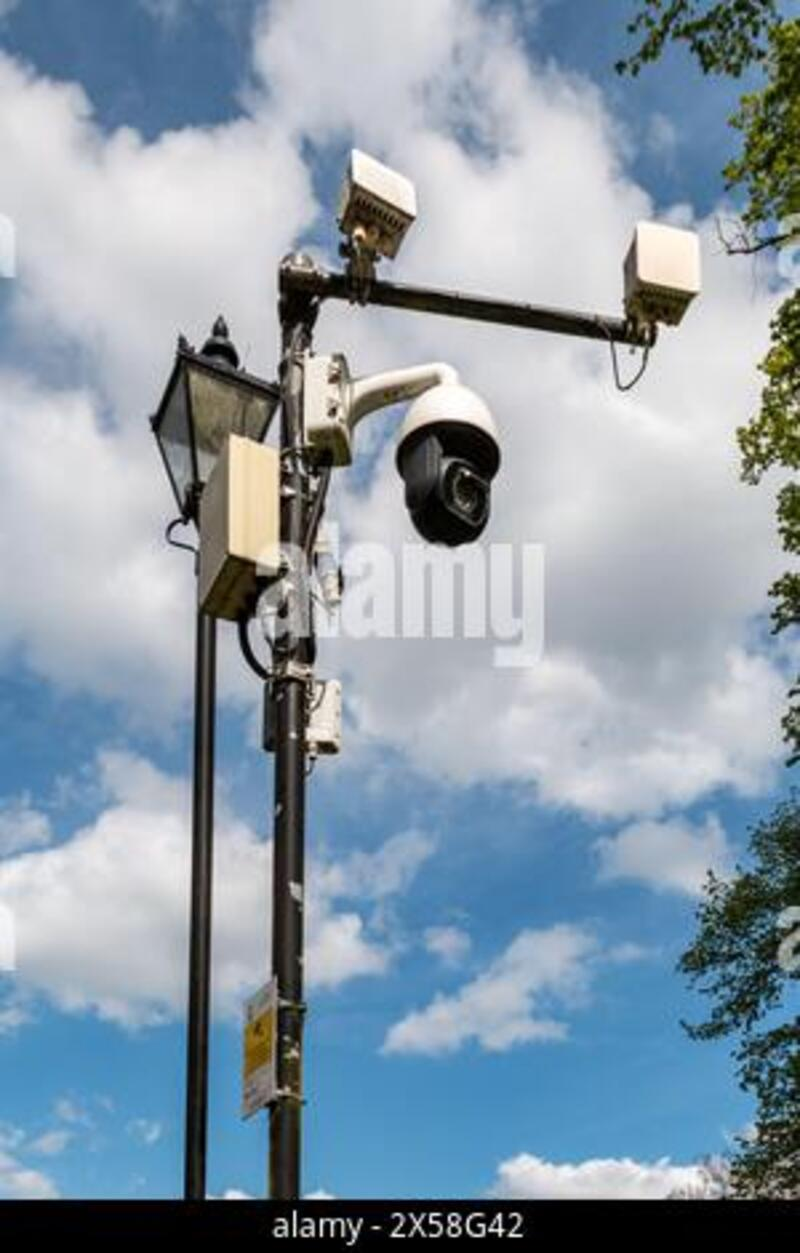ptz: (391, 391, 507, 544)
